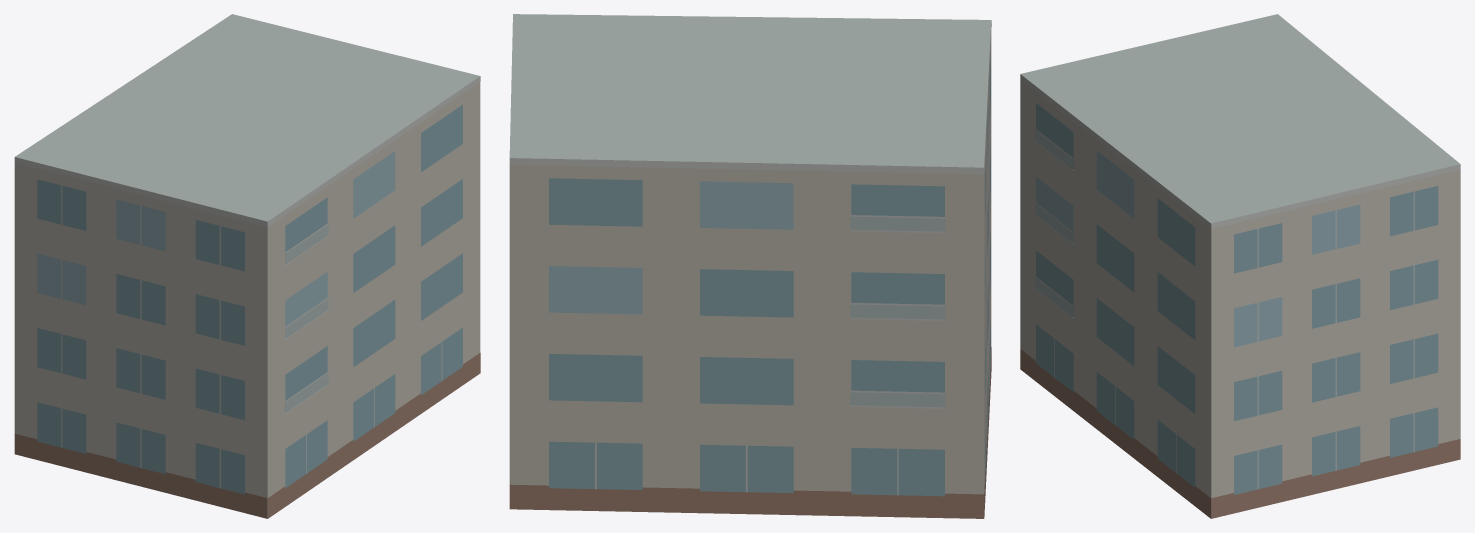
Rendered from survey-upis-32742422.glb.
The picture shows the model from 3 angles, left to right: view 1: azimuth 30°, elevation 25°; view 2: azimuth 150°, elevation 25°; view 3: azimuth 270°, elevation 25°; orthographic projection. The views are drawn at different scales.
Visible parts, largest first — view 1: survey-upis-32742422.tmp; view 2: survey-upis-32742422.tmp; view 3: survey-upis-32742422.tmp.
Part boxes in pixels (x1,y1,x2,y2): survey-upis-32742422.tmp: (14, 14, 480, 518); survey-upis-32742422.tmp: (509, 14, 991, 518); survey-upis-32742422.tmp: (1020, 14, 1460, 518).
Bounding box in the file's own units: 19.49 × 12.8 × 17.31.
